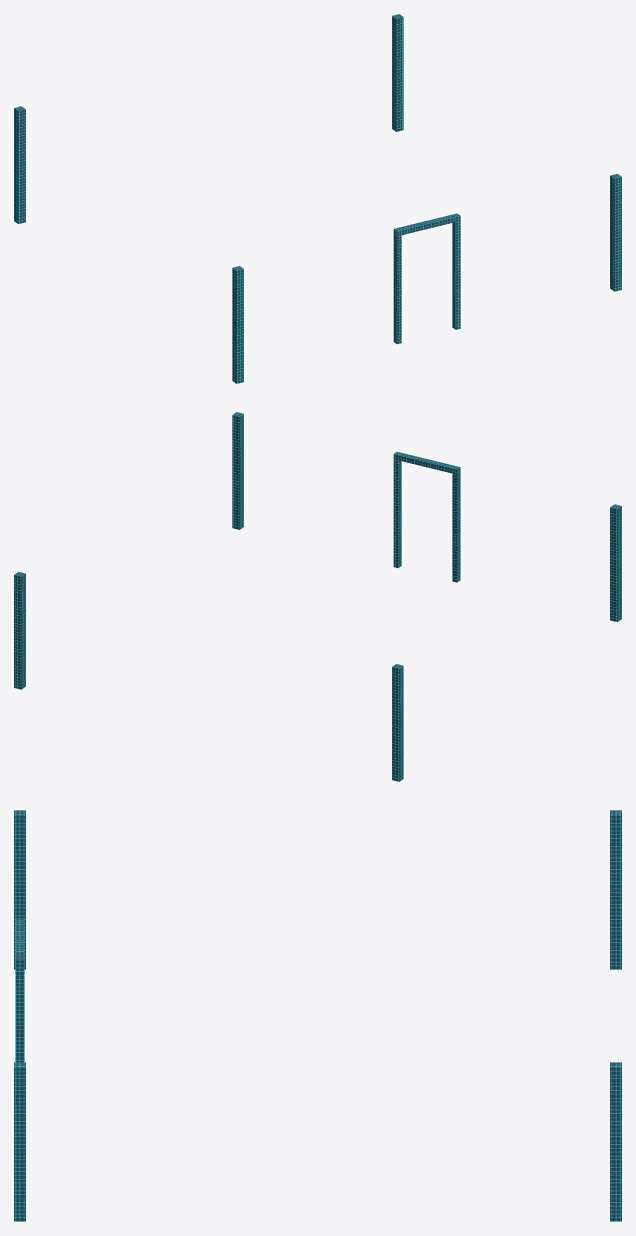
Rendered from accent-skin-12.glb.
3 views of the same model, one above another, from view 1: azimuth 30°, elevation 25°; view 2: azimuth 150°, elevation 25°; view 3: azimuth 270°, elevation 25° (orthographic). The views are drawn at different scales.
Visible parts, largest first — view 1: accent-skin-12; view 2: accent-skin-12; view 3: accent-skin-12.
Boxes of the visible parts, <box> form: accent-skin-12: <box>14,14,621,383</box>; accent-skin-12: <box>14,412,621,781</box>; accent-skin-12: <box>14,810,621,1221</box>.
Size of the model in its own units: 14.28 by 4 by 14.28.
1 material, 1 textured.
